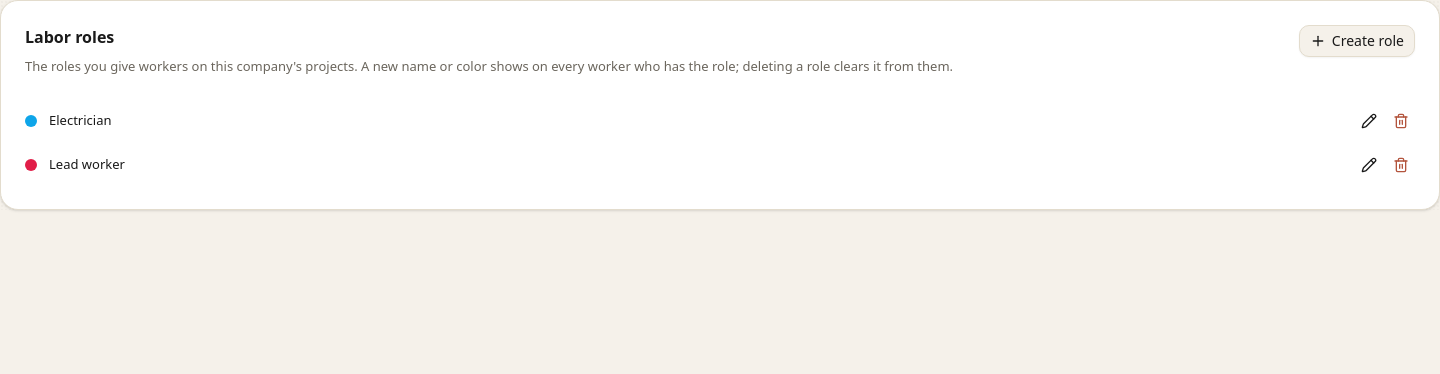
Test: CompanyLaborRolesCard › renames a role in place
The image size is (1440, 374).
Check: the text "Electrician" is shown, box left=49, top=111, right=112, bottom=129
Click the button named "Edit Electrician" at x=1369, y=120, box left=1355, top=106, right=1383, bottom=134
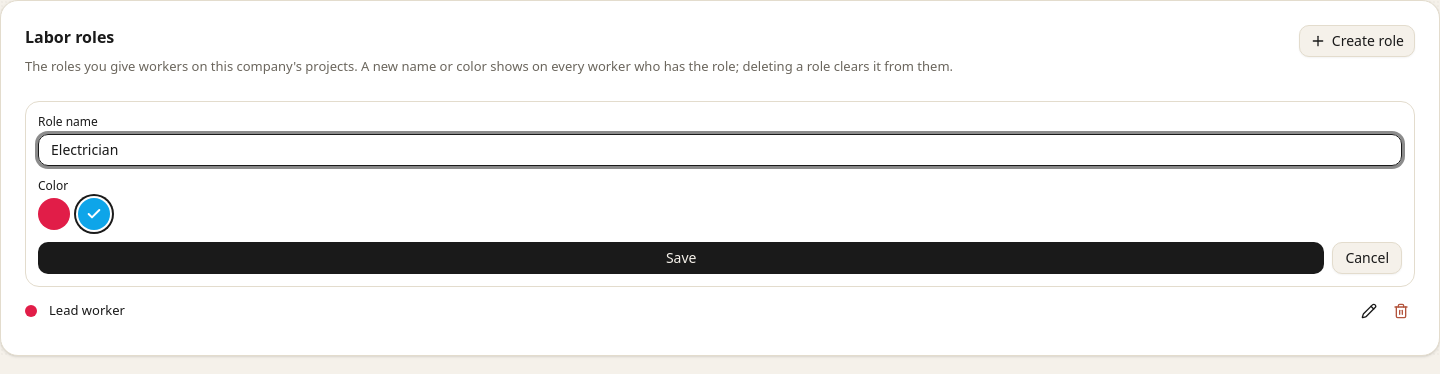
Replace the text in the field labelled "Role name" with "Electrician (lead)" at x=720, y=150, box left=38, top=134, right=1402, bottom=166
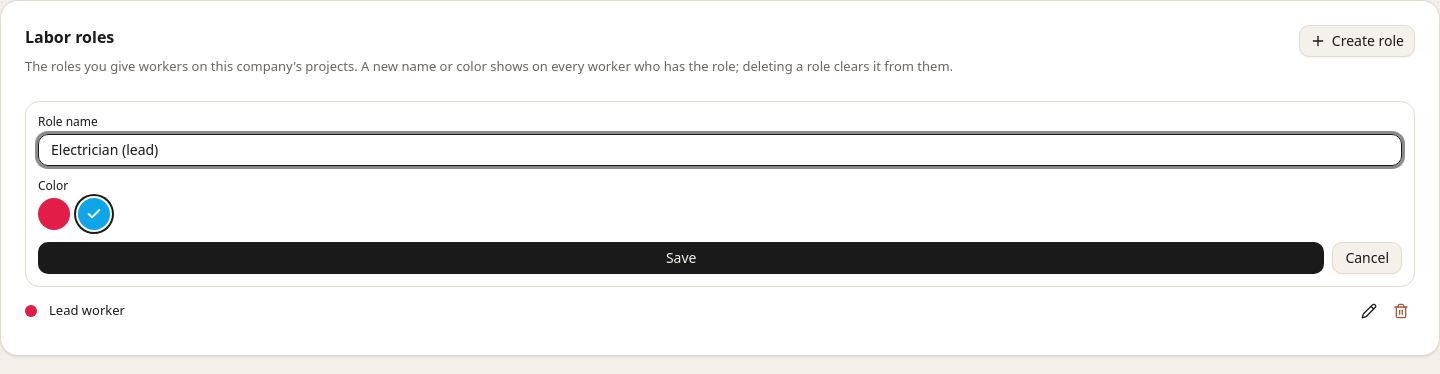
Click the button "Save" at x=681, y=258, box left=38, top=242, right=1324, bottom=274
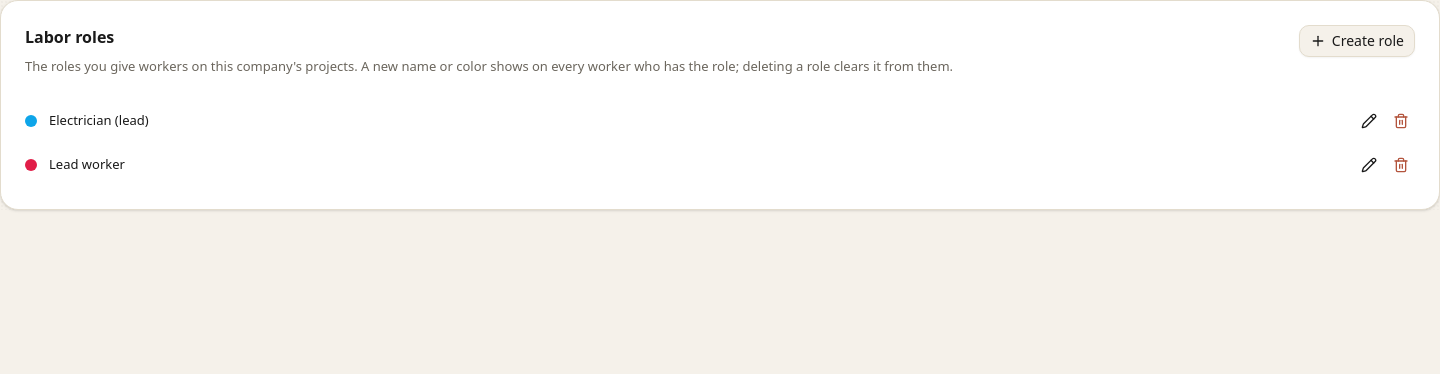
Check: the text "Electrician (lead)" is shown, box left=49, top=111, right=149, bottom=129
